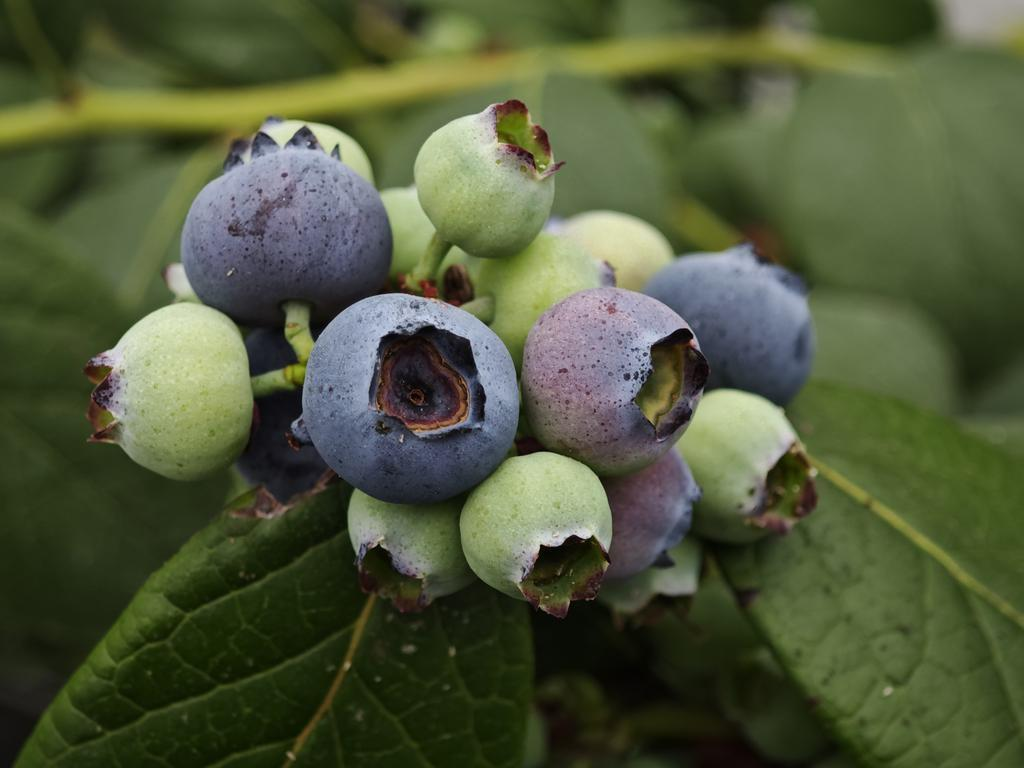RipeBlueBerry: (298, 285, 525, 508), (180, 133, 397, 315)
Semi-RipeBlueBerry: (525, 284, 711, 476)
UnripeBlueBerry: (92, 299, 257, 484)
